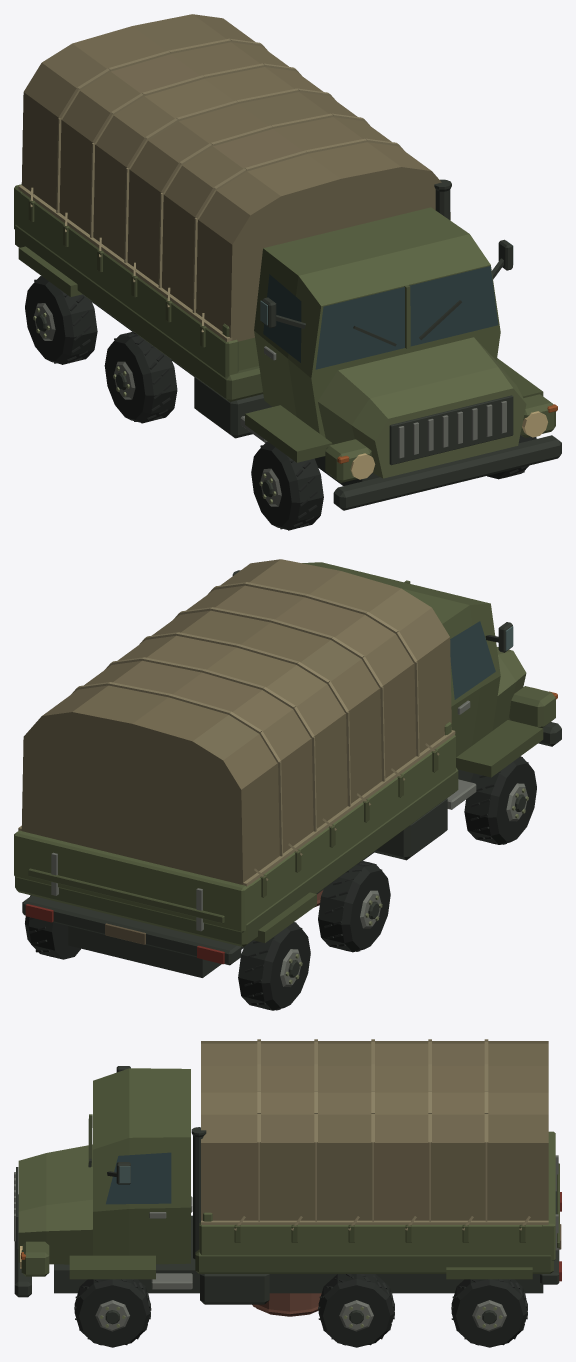
Rendered from depot-props.glb.
The picture shows the model from 3 angles, top to bottom: view 1: azimuth 30°, elevation 25°; view 2: azimuth 150°, elevation 25°; view 3: azimuth 270°, elevation 25°; orthographic projection. The views are drawn at different scales.
Parts seen in each view (by area): view 1: DepotTruck body vehicle-paint, DepotTruck body canvas, DepotTruck body vehicle-glass, DepotTruck trim canvas, DepotTruck trim vehicle-paint; view 2: DepotTruck body canvas, DepotTruck body vehicle-paint, DepotTruck trim canvas, DepotTruck trim vehicle-paint, DepotTruck body vehicle-glass; view 3: DepotTruck body vehicle-paint, DepotTruck body canvas, DepotTruck trim vehicle-paint, DepotTruck trim canvas, DepotTruck body vehicle-glass, FuelDrum body vehicle-paint.
Part boxes in pixels (box(x1,y1,x2,y2)): DepotTruck body vehicle-paint: box(14, 184, 561, 530); DepotTruck body canvas: box(21, 14, 450, 341); DepotTruck body vehicle-glass: box(263, 266, 498, 369); DepotTruck trim canvas: box(18, 38, 404, 341); DepotTruck trim vehicle-paint: box(28, 179, 557, 530); DepotTruck body canvas: box(21, 559, 451, 884); DepotTruck body vehicle-paint: box(14, 562, 561, 1010); DepotTruck trim canvas: box(18, 582, 455, 886); DepotTruck trim vehicle-paint: box(28, 570, 557, 1010); DepotTruck body vehicle-glass: box(450, 621, 495, 699); DepotTruck body vehicle-paint: box(14, 1068, 561, 1347); DepotTruck body canvas: box(201, 1041, 548, 1220); DepotTruck trim vehicle-paint: box(14, 1066, 561, 1345); DepotTruck trim canvas: box(201, 1039, 548, 1230); DepotTruck body vehicle-glass: box(106, 1152, 171, 1204); FuelDrum body vehicle-paint: box(256, 1293, 321, 1316).
Bounding box in the file's own units: 3.11 × 3.29 × 6.92.
